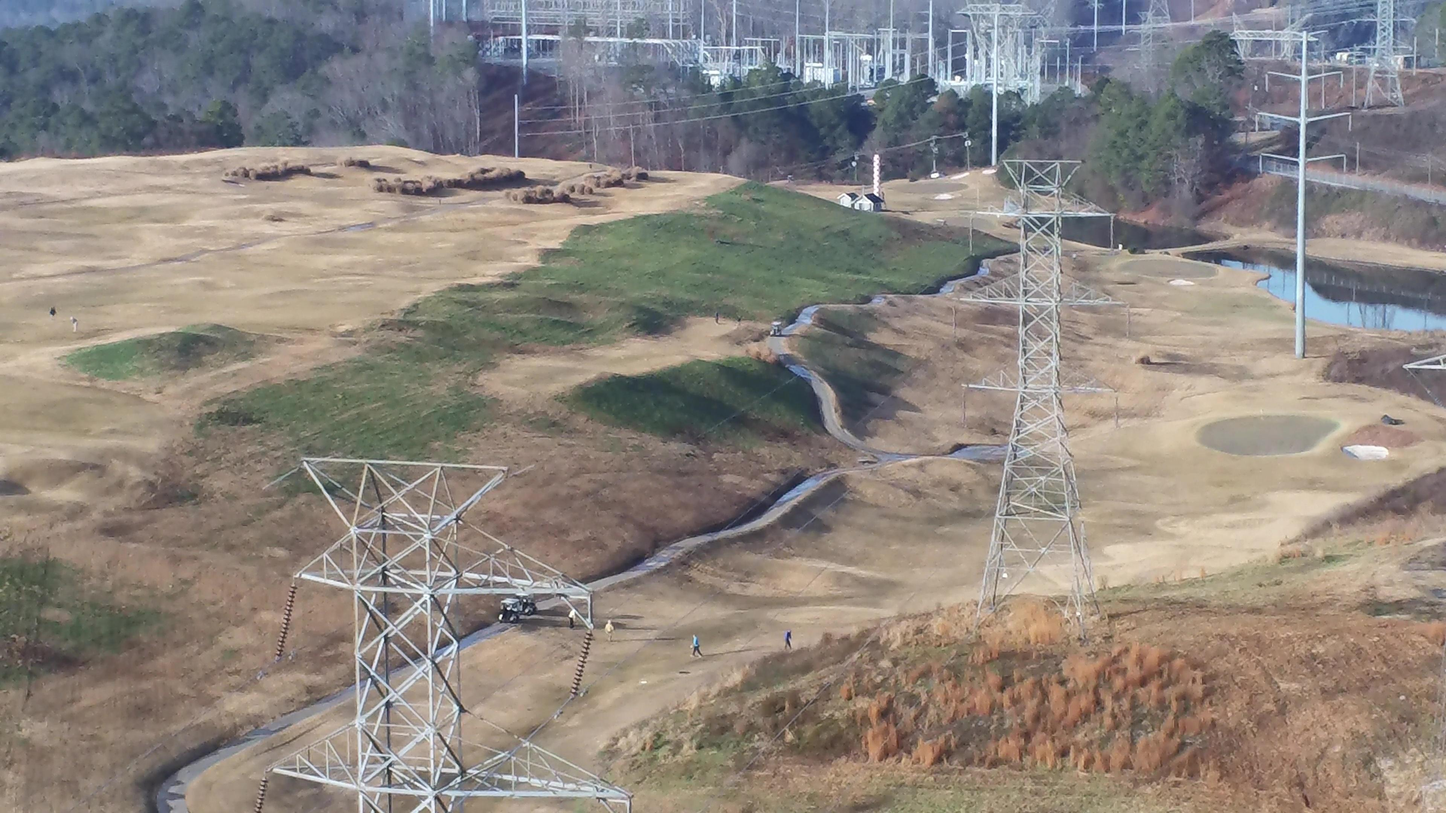power_tower: (252, 458, 636, 813), (950, 160, 1128, 634), (1224, 23, 1360, 361), (1354, 0, 1415, 108), (956, 0, 1036, 81), (1227, 12, 1319, 61)
